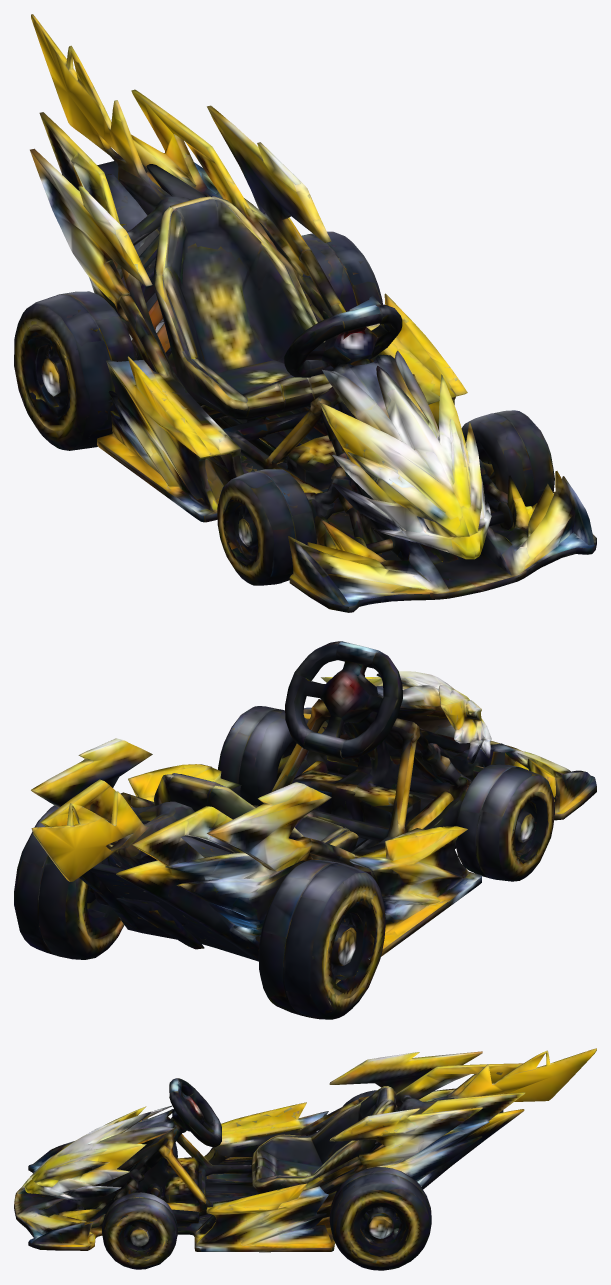
File: jolteon.glb
The picture shows the model from 3 angles, top to bottom: view 1: azimuth 30°, elevation 25°; view 2: azimuth 150°, elevation 25°; view 3: azimuth 270°, elevation 25°; orthographic projection. The views are drawn at different scales.
Parts seen in each view (by area): view 1: node_0; view 2: node_0; view 3: node_0.
Part boxes in pixels (box(x1,y1,x2,y2)): node_0: box(14, 14, 596, 612); node_0: box(14, 641, 596, 1019); node_0: box(14, 1048, 596, 1270).
Bounding box in the file's own units: 0.4466 × 0.3841 × 1.14.
Materials: 1 (1 with a texture image).
